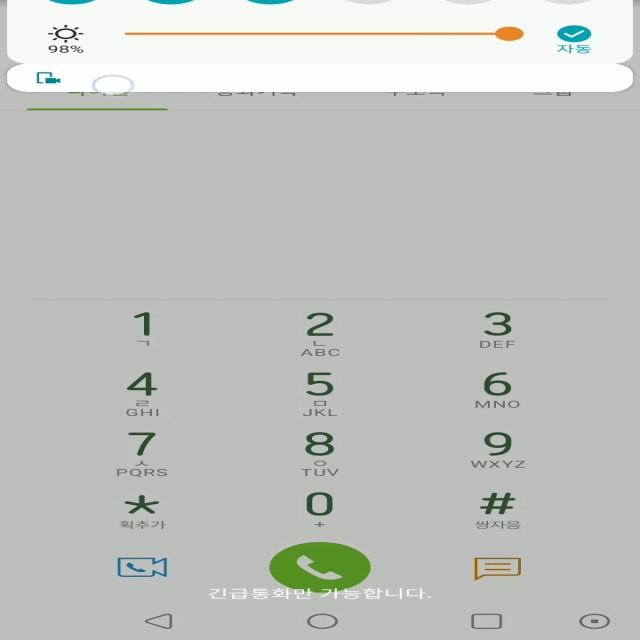Cursor: (91, 75, 136, 97)
